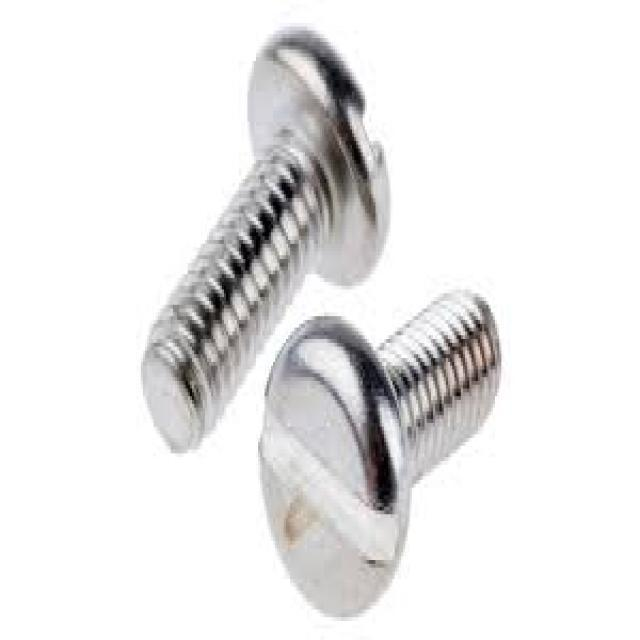Screw: (141, 27, 393, 457), (256, 290, 506, 621)
